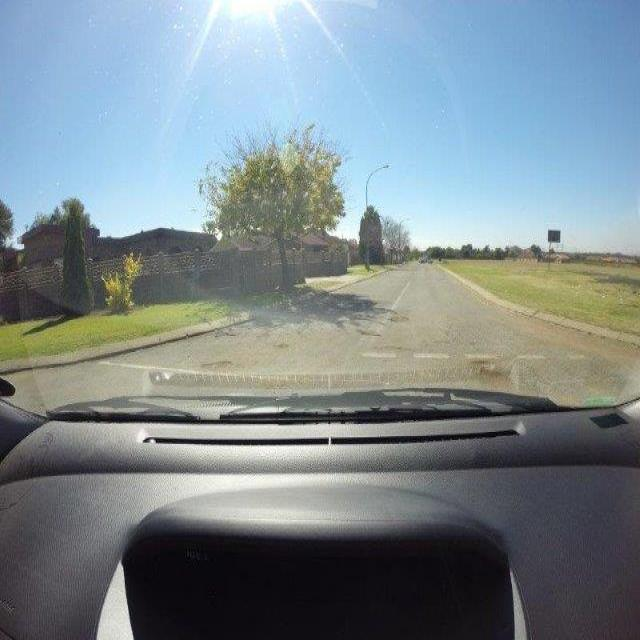lubang: (468, 359, 505, 381), (371, 339, 415, 355), (198, 356, 232, 371), (213, 328, 240, 343), (386, 312, 412, 326), (271, 339, 292, 352)
